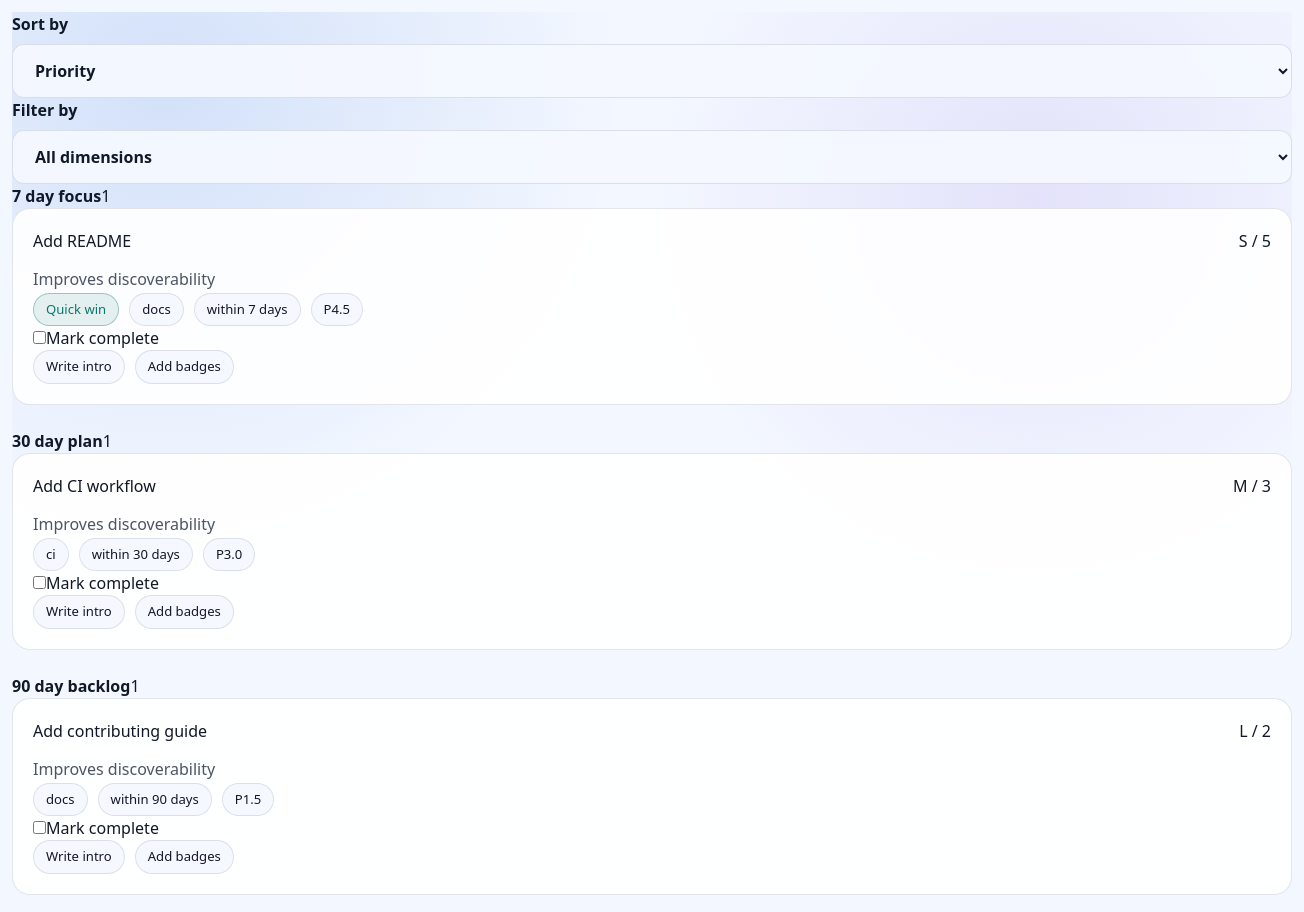
Test: ActionList › filtering by dimension (Requirement 10.3) › filters to show only selected dimension
The image size is (1304, 912).
Select "ci" in the dropdown labelled "Filter by": (652, 157) [12, 130, 1292, 184]
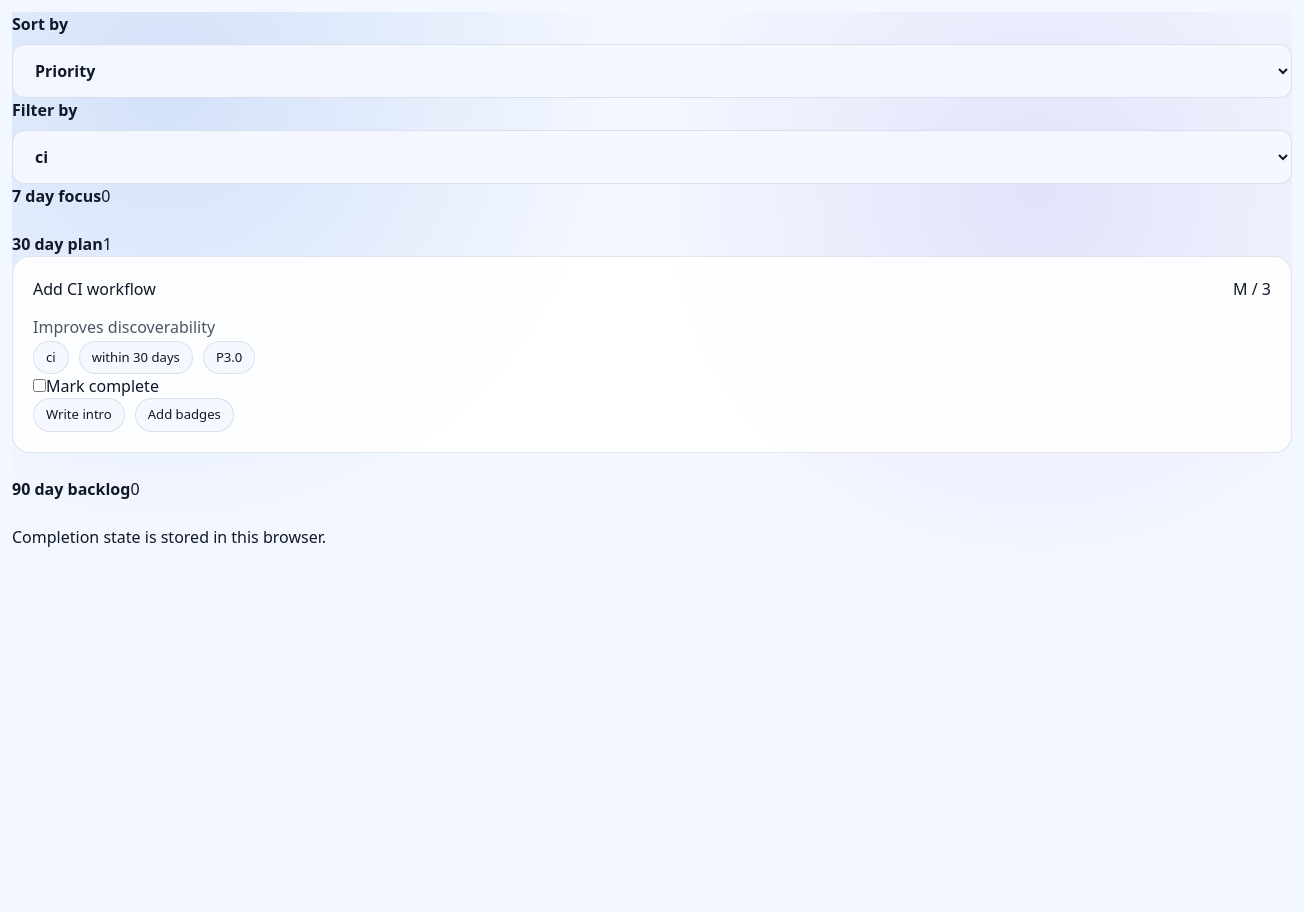
Check: the heading "Add CI workflow" is shown, box [33, 277, 156, 301]
Check: the heading "Add README" is gone
